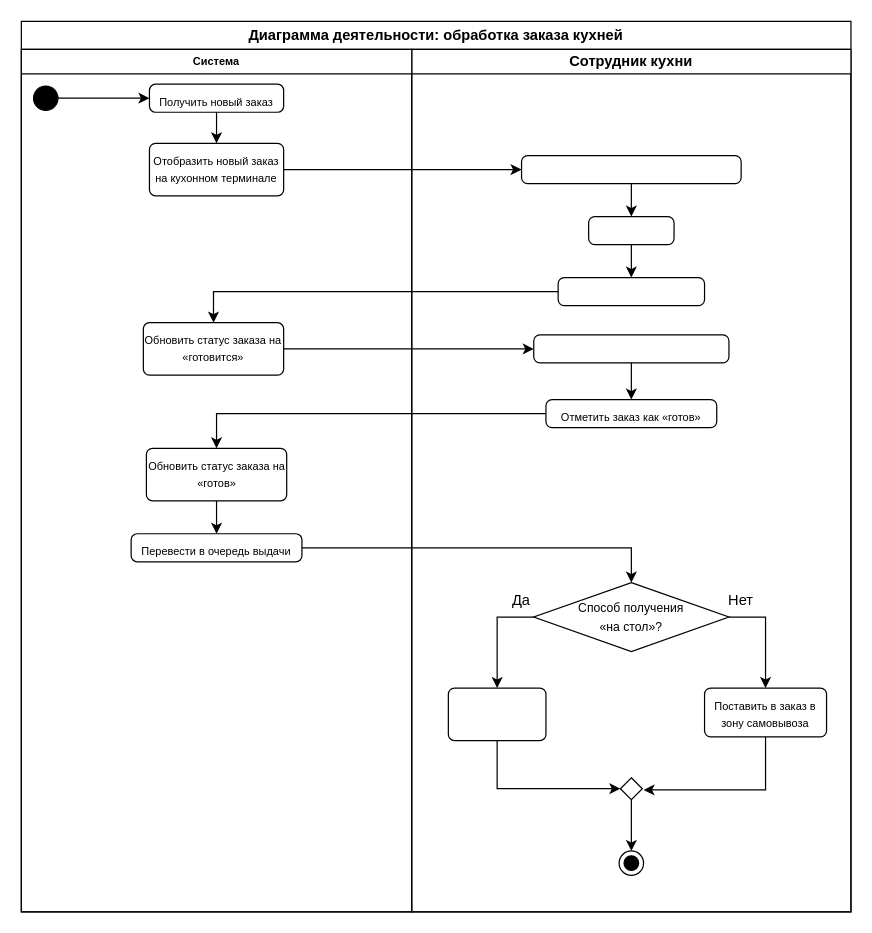
The diagram is 872 pixels wide and 933 high, and some of its shapes have lost their labels. The centre of each missing label's shape, as x and y in pixels:
"Выбрать заказ" goes at point 630,230.
"Готовить блюда согласно заказу" goes at point 631,348.
"Передать заказ на раздачу" goes at point 496,714.
"Принять заказ в работу" goes at point 631,291.
"Просмотреть список активных заказов" goes at point 630,169.
